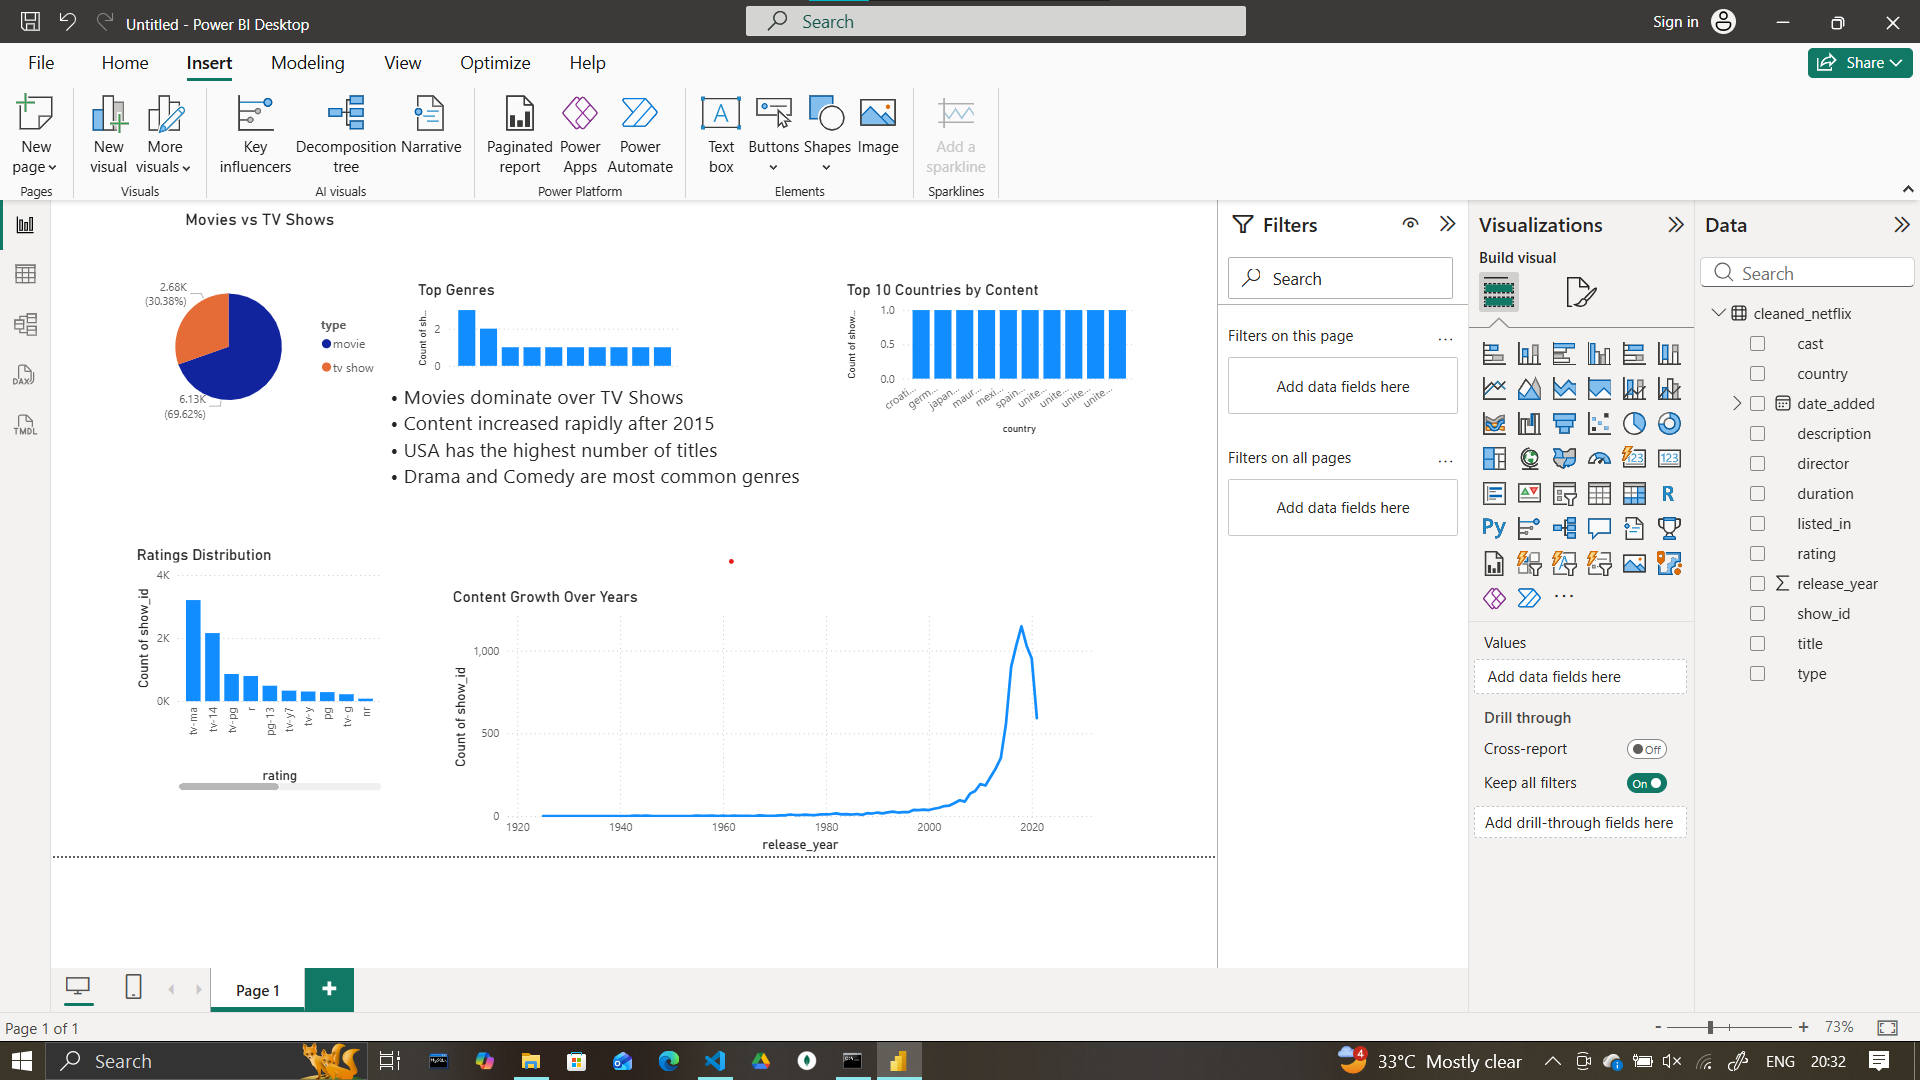

What the dashboard file says about the page in this screenshot:
{"tool":"powerbi","page":{"name":"Page 1","canvas":[1280,720],"ordinal":0},"visuals":[{"type":"pieChart","title":"Movies vs TV Shows","fields":{"Category":["cleaned_netflix.type"],"Y":["CountNonNull(cleaned_netflix.type)"]},"box":[89.2,11,279.9,279.9],"z":0},{"type":"clusteredColumnChart","title":"Top 10 Countries by Content","fields":{"Category":["cleaned_netflix.country"],"Y":["CountNonNull(cleaned_netflix.show_id)"]},"box":[868.6,87.8,326.6,174.3],"z":1},{"type":"lineChart","title":"Content Growth Over Years","fields":{"Category":["cleaned_netflix.release_year"],"Y":["CountNonNull(cleaned_netflix.show_id)"]},"box":[436.4,425.4,714.9,295],"z":2},{"type":"clusteredColumnChart","title":"Top Genres","fields":{"Category":["cleaned_netflix.listed_in"],"Y":["CountNonNull(cleaned_netflix.show_id)"]},"box":[397.9,87.8,297.8,108.4],"z":3},{"type":"clusteredColumnChart","title":"Ratings Distribution","fields":{"Category":["cleaned_netflix.rating"],"Y":["CountNonNull(cleaned_netflix.show_id)"]},"box":[89.2,378.7,278.6,274.4],"z":4},{"type":"textbox","box":[367.8,196.2,514.6,134.5],"z":7}]}

Visuals, with their boxes on the page's 1280x720 design canvas (x1, y1, x2, y2). These are canvas units, not pixel positions in the 1920x1080 screenshot, which may show the page scaled, cropped or inside an application window:
"Movies vs TV Shows" pieChart: box=[89, 11, 369, 291]
"Top 10 Countries by Content" clusteredColumnChart: box=[869, 88, 1195, 262]
"Content Growth Over Years" lineChart: box=[436, 425, 1151, 720]
"Top Genres" clusteredColumnChart: box=[398, 88, 696, 196]
"Ratings Distribution" clusteredColumnChart: box=[89, 379, 368, 653]
textbox: box=[368, 196, 882, 331]
